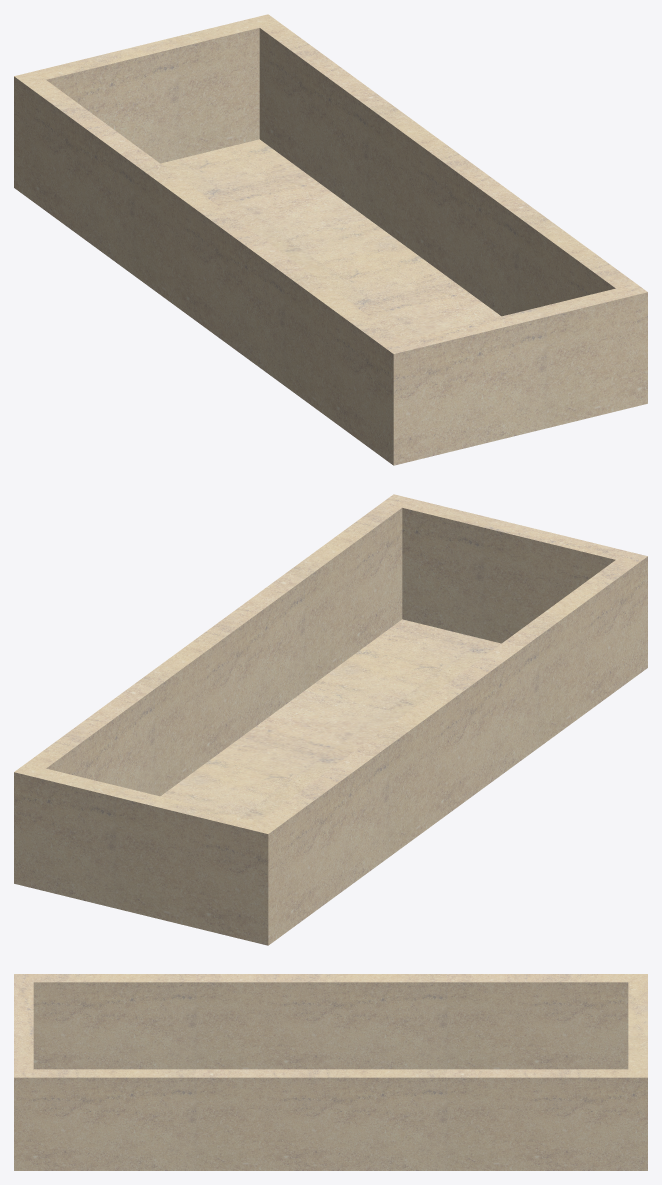
File: sarcophagus-bottom.dae
3 views of the same model, one above another, from view 1: azimuth 30°, elevation 25°; view 2: azimuth 150°, elevation 25°; view 3: azimuth 270°, elevation 25° (orthographic). The views are drawn at different scales.
Visible parts, largest first — view 1: SketchUp (×2); view 2: SketchUp (×2); view 3: SketchUp (×2).
Part boxes in pixels (x1=…): SketchUp (×2): x1=14, y1=14, x2=647, y2=465; SketchUp (×2): x1=14, y1=494, x2=647, y2=945; SketchUp (×2): x1=14, y1=974, x2=647, y2=1170.
Size of the model in its own units: 35.19 by 91 by 14.75.
